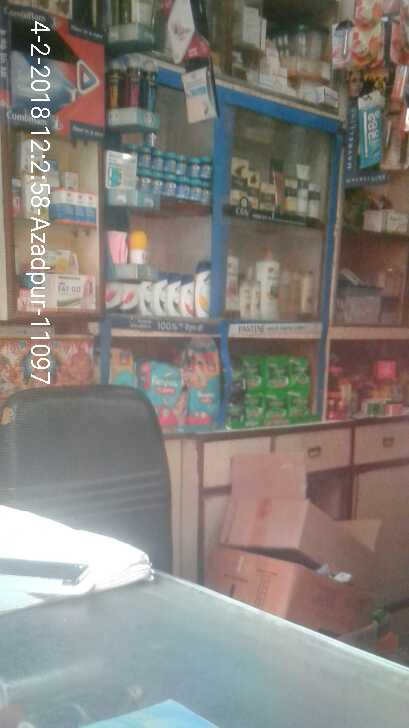vicks: (128, 141, 216, 201)
